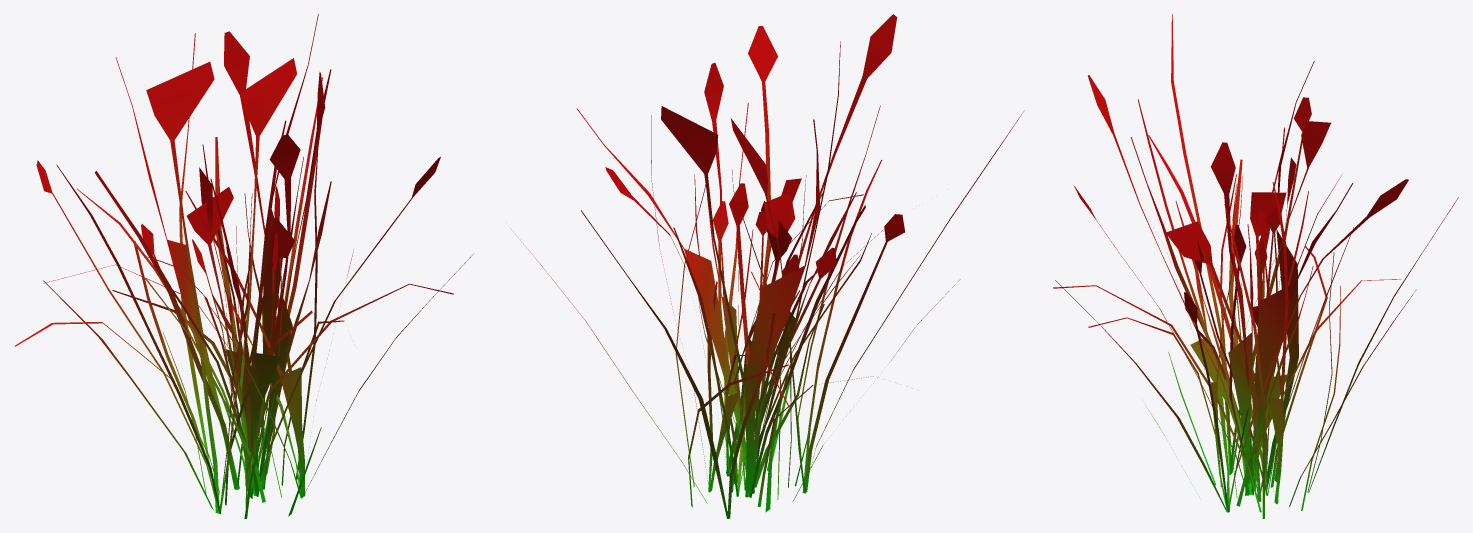
The model's file is ueyoebmia_Var6_LOD2.fbx.
The picture shows the model from 3 angles, left to right: view 1: azimuth 30°, elevation 25°; view 2: azimuth 150°, elevation 25°; view 3: azimuth 270°, elevation 25°; orthographic projection. The views are drawn at different scales.
Parts seen in each view (by area): view 1: _f7ab_Var6_LOD2; view 2: _f7ab_Var6_LOD2; view 3: _f7ab_Var6_LOD2.
Part boxes in pixels (x1,y1,x2,y2): _f7ab_Var6_LOD2: (15,14,473,518); _f7ab_Var6_LOD2: (511,14,1024,518); _f7ab_Var6_LOD2: (1053,14,1458,518).
Size of the model in its own units: 29.87 by 31.49 by 29.15.
